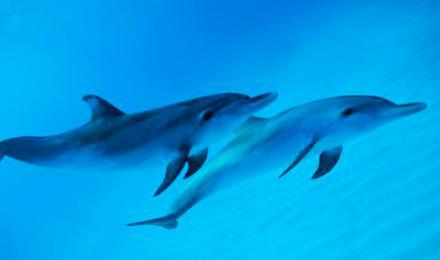fish: (126, 91, 427, 231), (2, 77, 282, 195)
